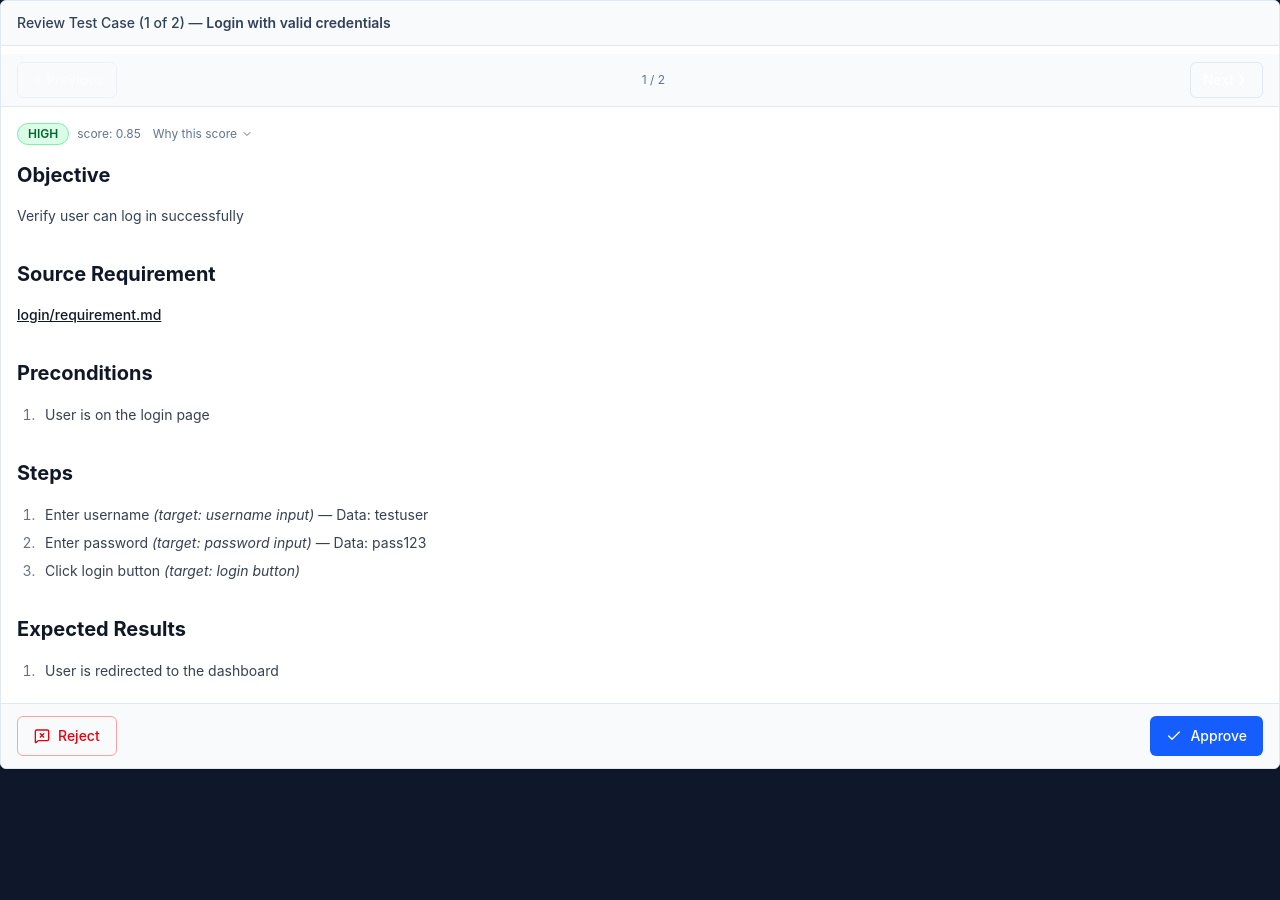
Test: MaryReviewPanel › AC2 — Approve › shows resolved count after approving
Click the button "Approve" at (1207, 736), box top-left (1150, 716), bottom-right (1263, 756)
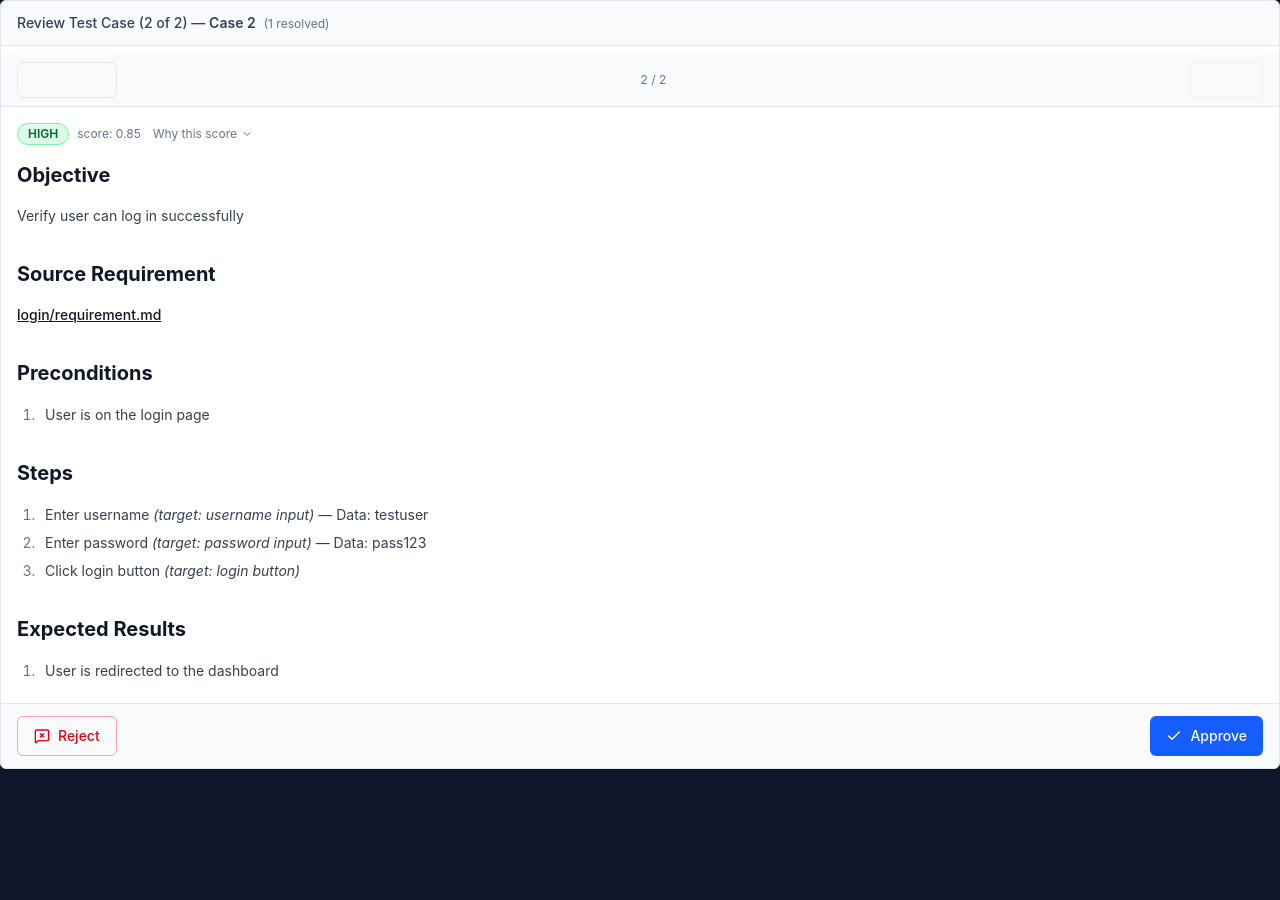
Result: the text "(1 resolved)" is shown at top-left (264, 16), bottom-right (329, 31)
